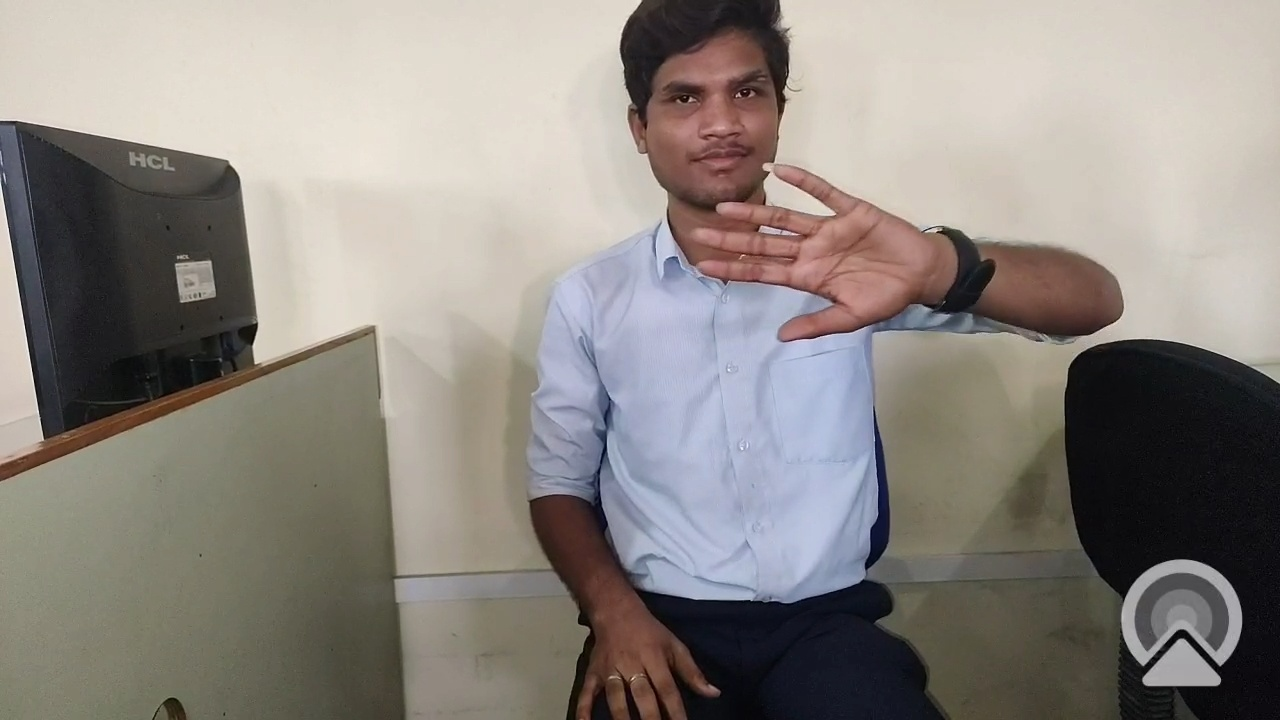Hello: (686, 159, 958, 367)
